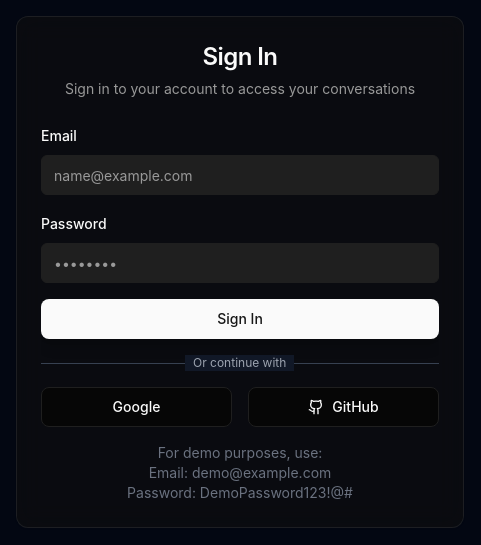
it: SignIn Page › shows loading state during signin
Type "test@example.com" into the field labelled "Email".
click(240, 175); type("test@example.com")  # box [41,155,439,195]
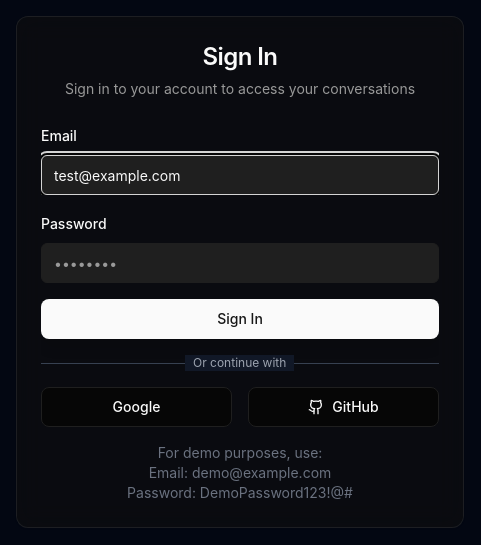
Type "password123" into the password field labelled "Password".
click(240, 263); type("password123")  # box [41,243,439,283]
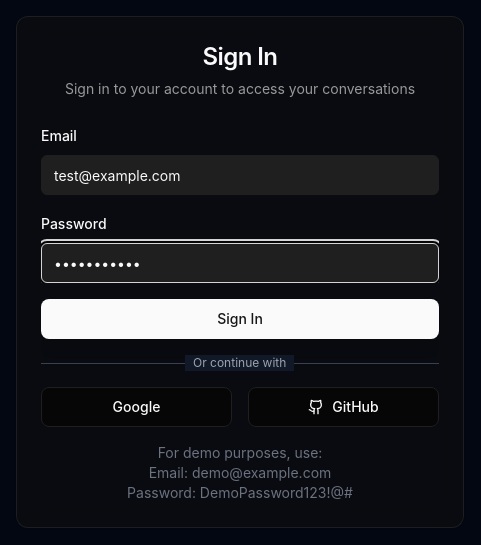
Click the button "Sign In".
click(240, 319)  # box [41,299,439,339]
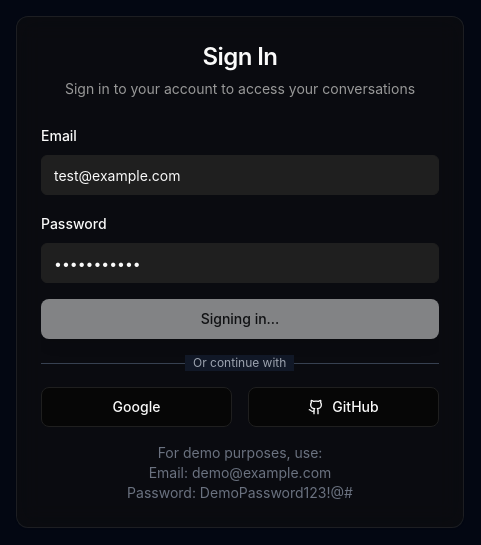
Check: the button "Signing in..." is disabled, box [41,299,439,339]
